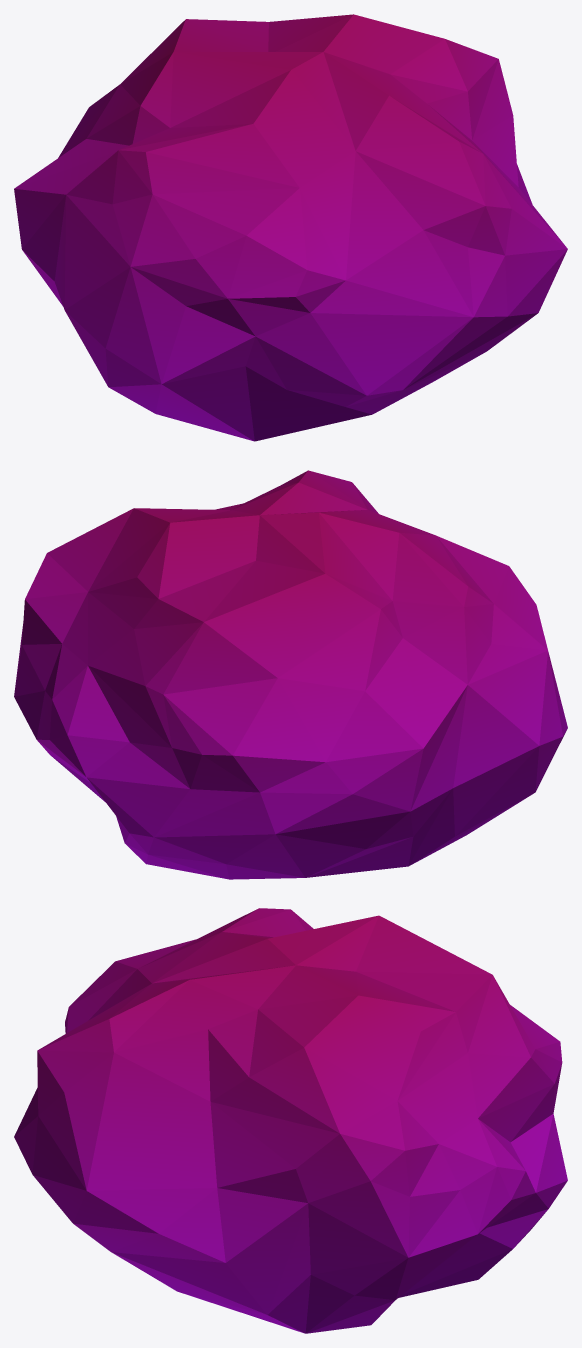
The model's file is SM_Plant_Hedge_Bush_01.gltf.
3 views of the same model, one above another, from view 1: azimuth 30°, elevation 25°; view 2: azimuth 150°, elevation 25°; view 3: azimuth 270°, elevation 25° (orthographic). The views are drawn at different scales.
Visible parts, largest first — view 1: SM_Plant_Hedge_Bush_01; view 2: SM_Plant_Hedge_Bush_01; view 3: SM_Plant_Hedge_Bush_01.
Boxes of the visible parts, box(x1,y1,x2,y2) form: SM_Plant_Hedge_Bush_01: box(14, 14, 567, 441); SM_Plant_Hedge_Bush_01: box(14, 470, 567, 879); SM_Plant_Hedge_Bush_01: box(14, 908, 567, 1333).
Bounding box in the file's own units: 3.41 × 2.07 × 3.41.
